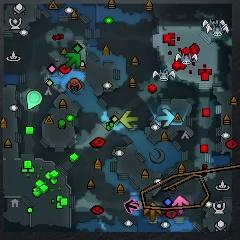p2: (27, 90, 42, 109)
x1: (171, 195, 189, 213)
x1Clone: (124, 199, 138, 214), (131, 201, 140, 212)
x2: (120, 110, 139, 128)
x3: (157, 108, 174, 126)
x4: (65, 53, 81, 68)
x5: (143, 202, 161, 220)
